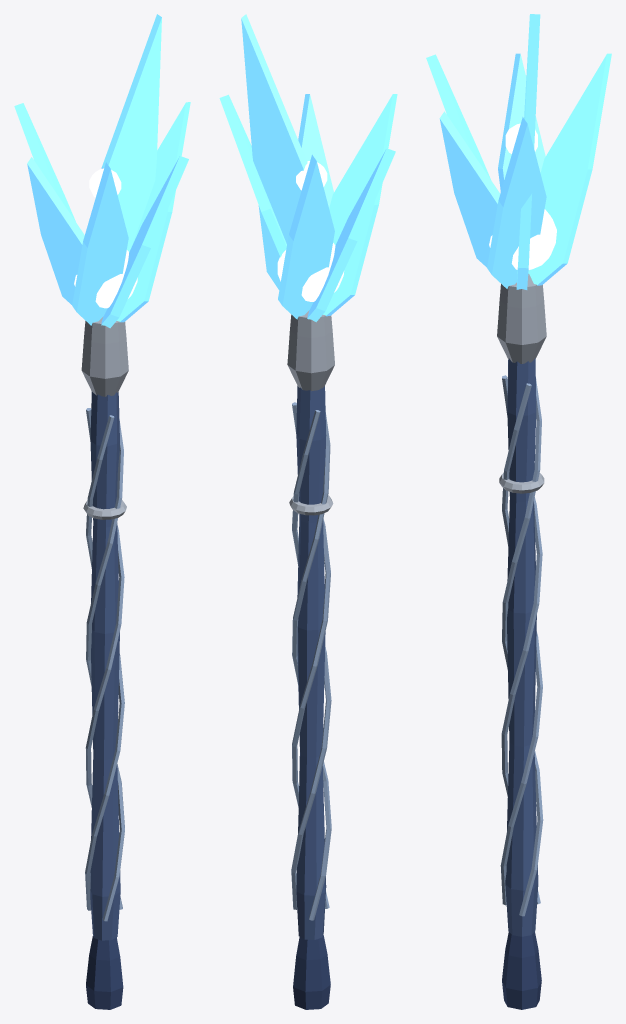
Rendered from staff_steelblue.glb.
3 renders of one model, left to right at view 1: azimuth 30°, elevation 25°; view 2: azimuth 150°, elevation 25°; view 3: azimuth 270°, elevation 25°, orthographic. The views are drawn at different scales.
Parts seen in each view (by area): view 1: St_Shaft, St_Blade0, St_Blade3, St_Blade2, St_Blade5, St_Neck, St_Blade4, St_Butt, St_Vein2, St_Vein1, St_Vein0, St_Blade1 (+2 smaller); view 2: St_Shaft, St_Blade0, St_Blade1, St_Blade3, St_Neck, St_Blade2, St_Butt, St_Vein0, St_Vein1, St_Blade5, St_Vein2, St_Blade4 (+2 smaller); view 3: St_Shaft, St_Blade1, St_Blade5, St_Blade4, St_Neck, St_Butt, St_Vein0, St_Vein2, St_Blade0, St_Vein1, St_Blade2, St_Blade3 (+2 smaller).
Boxes of the visible parts, x1=… form: St_Shaft: x1=90, y1=391, x2=120, y2=940; St_Blade0: x1=101, y1=14, x2=161, y2=251; St_Blade3: x1=72, y1=162, x2=128, y2=325; St_Blade2: x1=27, y1=157, x2=84, y2=304; St_Blade5: x1=117, y1=102, x2=190, y2=322; St_Neck: x1=81, y1=317, x2=128, y2=396; St_Blade4: x1=101, y1=156, x2=188, y2=328; St_Butt: x1=86, y1=935, x2=123, y2=1009; St_Vein2: x1=86, y1=419, x2=124, y2=921; St_Vein1: x1=85, y1=415, x2=124, y2=910; St_Vein0: x1=85, y1=408, x2=124, y2=909; St_Blade1: x1=14, y1=103, x2=75, y2=221; St_Shaft: x1=296, y1=386, x2=326, y2=939; St_Blade0: x1=241, y1=14, x2=307, y2=289; St_Blade1: x1=278, y1=154, x2=334, y2=319; St_Blade3: x1=323, y1=94, x2=397, y2=316; St_Neck: x1=287, y1=310, x2=334, y2=391; St_Blade2: x1=307, y1=148, x2=395, y2=322; St_Butt: x1=293, y1=935, x2=330, y2=1009; St_Vein0: x1=291, y1=410, x2=331, y2=909; St_Vein1: x1=292, y1=412, x2=331, y2=920; St_Blade5: x1=219, y1=94, x2=286, y2=257; St_Vein2: x1=292, y1=402, x2=330, y2=908; St_Blade4: x1=298, y1=94, x2=333, y2=208; St_Shaft: x1=505, y1=358, x2=538, y2=936; St_Blade1: x1=528, y1=53, x2=611, y2=285; St_Blade5: x1=487, y1=117, x2=546, y2=288; St_Blade4: x1=439, y1=111, x2=500, y2=267; St_Neck: x1=497, y1=274, x2=546, y2=363; St_Butt: x1=502, y1=932, x2=541, y2=1009; St_Vein0: x1=502, y1=376, x2=543, y2=916; St_Vein2: x1=500, y1=383, x2=542, y2=905; St_Blade0: x1=516, y1=14, x2=540, y2=289; St_Vein1: x1=501, y1=375, x2=542, y2=904; St_Blade2: x1=498, y1=53, x2=545, y2=273; St_Blade3: x1=426, y1=54, x2=490, y2=179.
Size of the model in its own units: 0.4721 by 2.58 by 0.4263.
